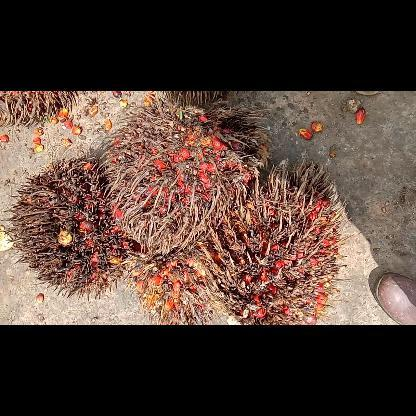Terlalu masak: (102, 97, 274, 258), (203, 156, 357, 324), (0, 152, 148, 307), (120, 238, 224, 324)
